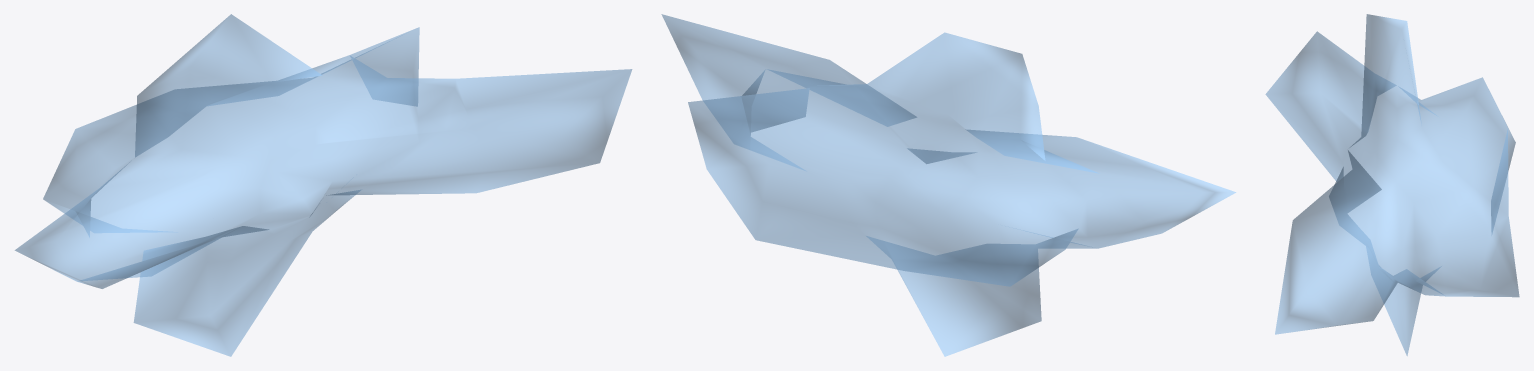
Rendered from ssentinaltower_shield.gltf.
3 renders of one model, left to right at view 1: azimuth 30°, elevation 25°; view 2: azimuth 150°, elevation 25°; view 3: azimuth 270°, elevation 25°, orthographic. The views are drawn at different scales.
Visible parts, largest first — view 1: ssentinaltower.shield; view 2: ssentinaltower.shield; view 3: ssentinaltower.shield.
Part boxes in pixels (x1,y1,x2,y2): ssentinaltower.shield: (15,14,632,356); ssentinaltower.shield: (661,14,1235,356); ssentinaltower.shield: (1265,14,1519,355).
Bounding box in the file's own units: 40.25 × 21.52 × 14.75.
